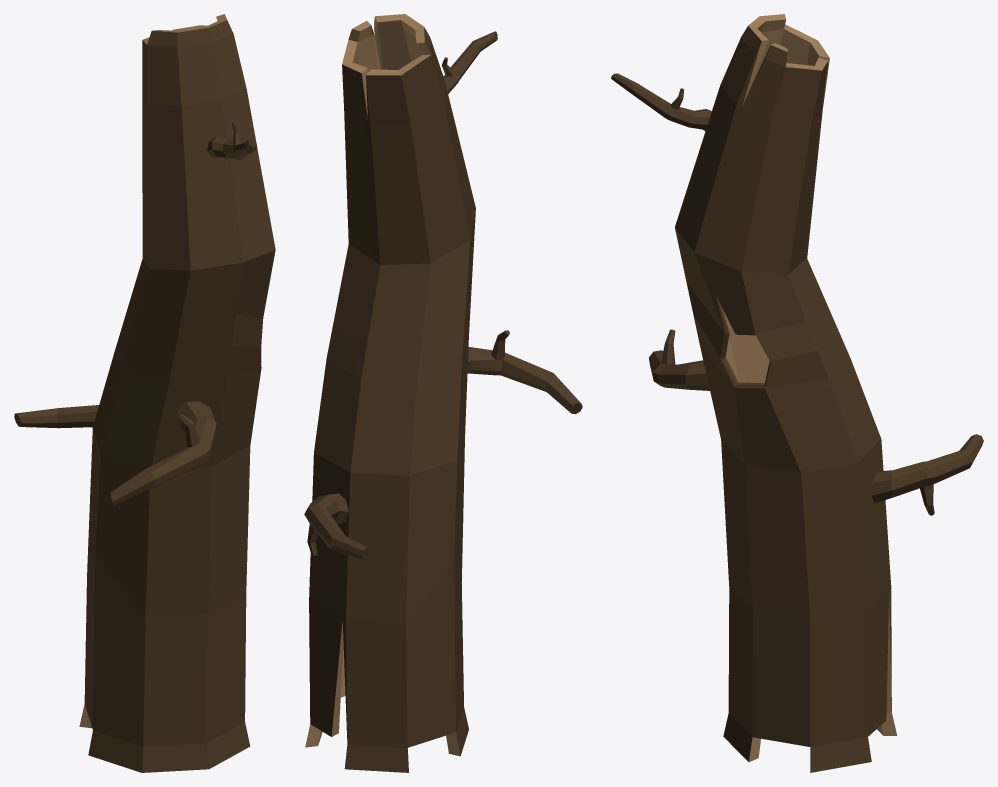
File: bois2.gltf
3 renders of one model, left to right at view 1: azimuth 30°, elevation 25°; view 2: azimuth 150°, elevation 25°; view 3: azimuth 270°, elevation 25°, orthographic. The views are drawn at different scales.
Parts seen in each view (by area): view 1: bois2; view 2: bois2; view 3: bois2.
Part boxes in pixels (x1=…): bois2: x1=14, y1=14, x2=275, y2=772; bois2: x1=304, y1=14, x2=582, y2=772; bois2: x1=611, y1=14, x2=983, y2=772.
Bounding box in the file's own units: 1.03 × 3.51 × 1.66.
2 materials, 2 textured.
